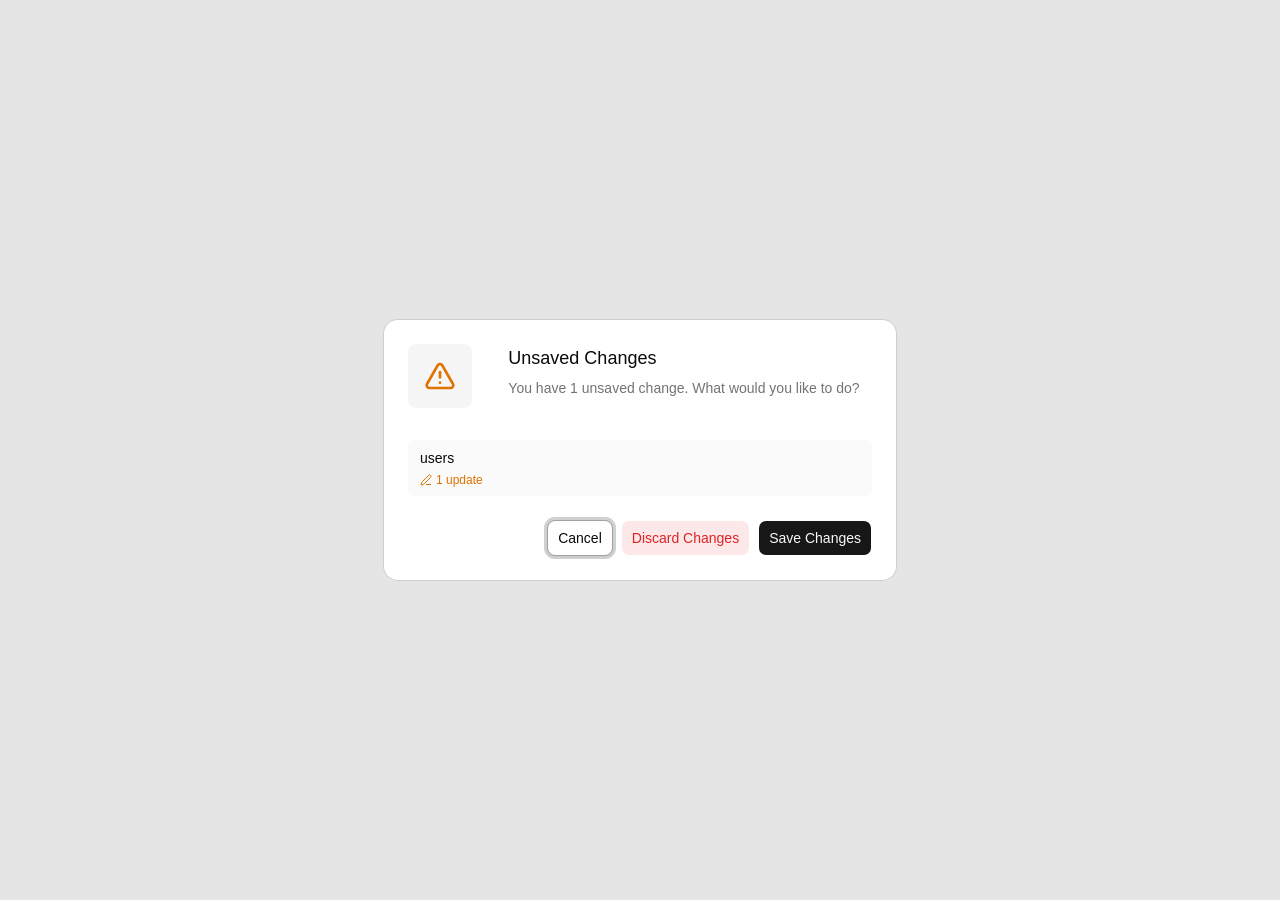
it: unsavedChangesDialog › error handling › should display error message when save fails
Click the button "Save Changes".
click(815, 538)  # box x1=758 y1=520 x2=872 y2=556
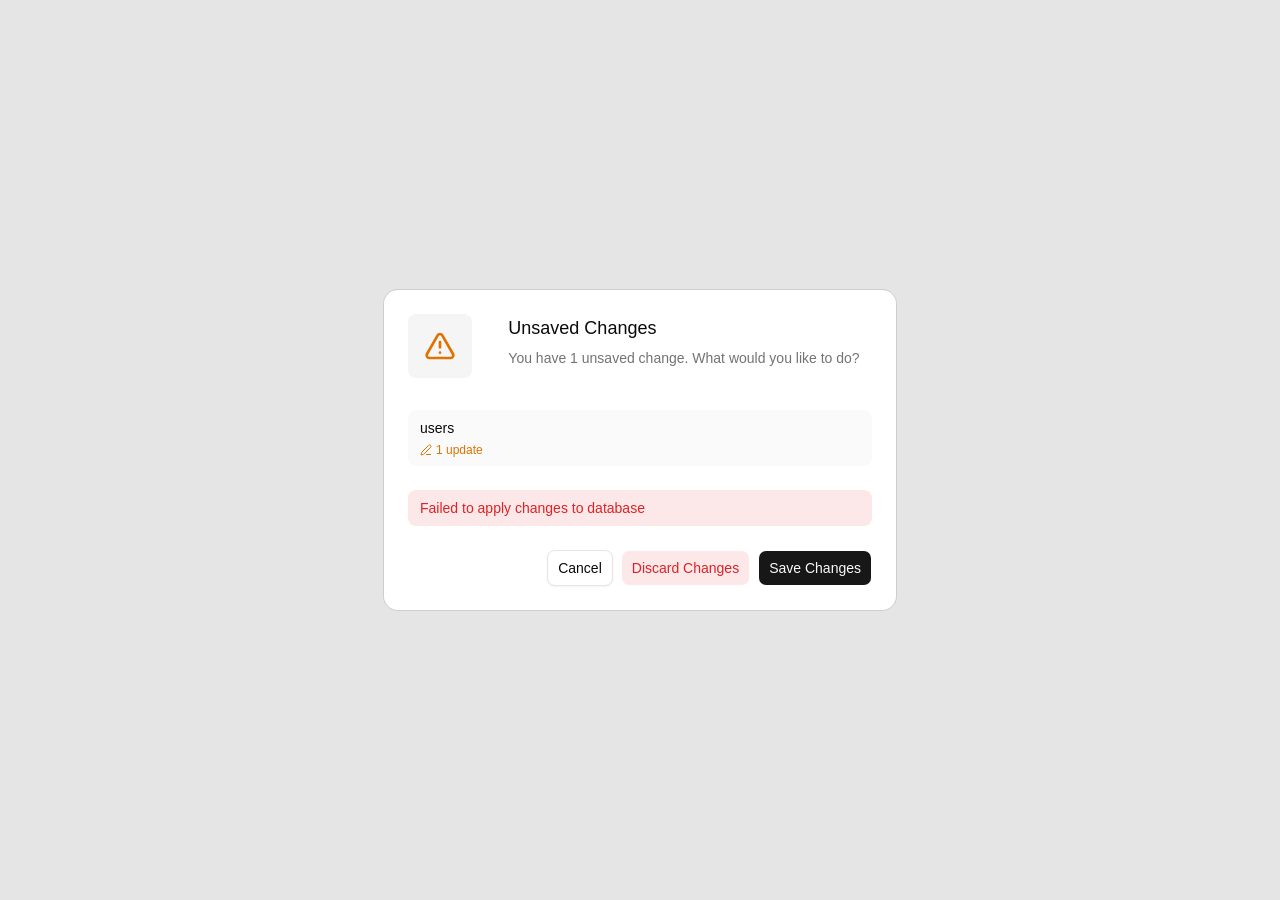
Result: the text "Failed to apply changes to database" is shown at x1=408 y1=490 x2=872 y2=526
